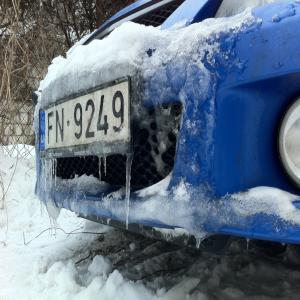Vehicle-registration-plate: (39, 75, 135, 162)
